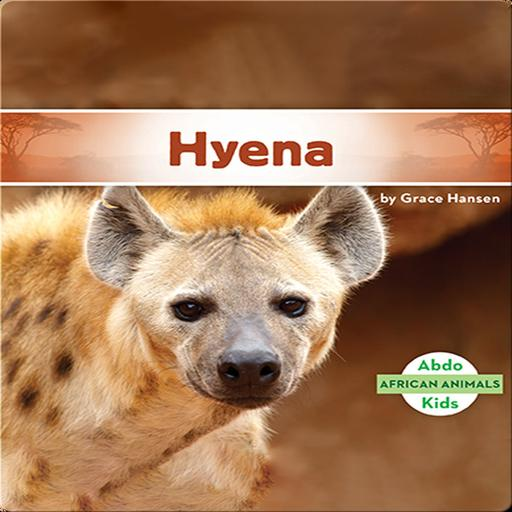Hyena: (0, 178, 393, 512)
